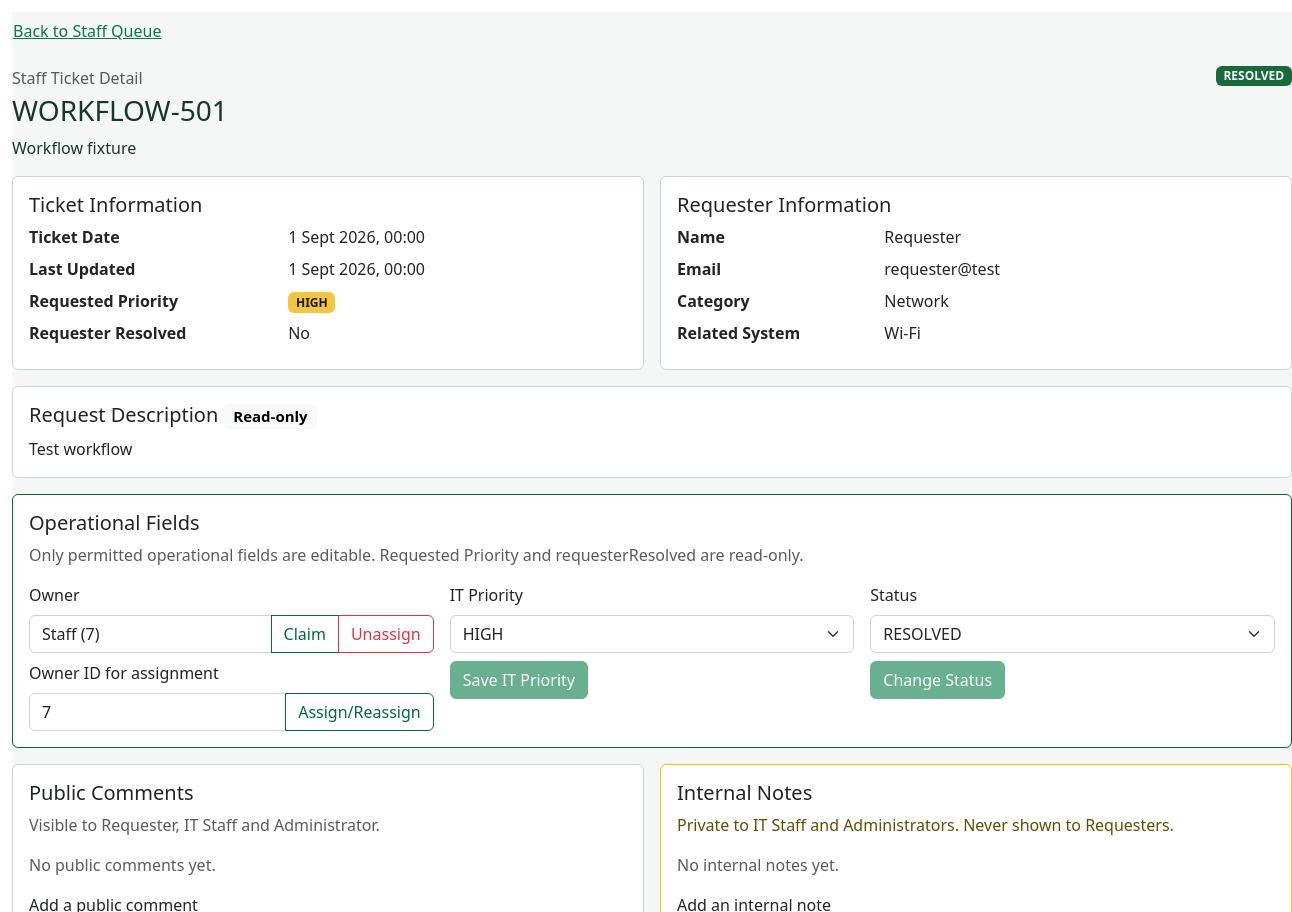
Scenario: UI-05 Ticket workflow › maps server validation to the reason field and keeps its contents
The image size is (1292, 912).
Expected: the heading "WORKFLOW-501" is shown, [12, 94, 228, 128]
Select "REOPENED" in the dropdown labelled "Status". click: (1073, 634)
box: [870, 615, 1275, 653]
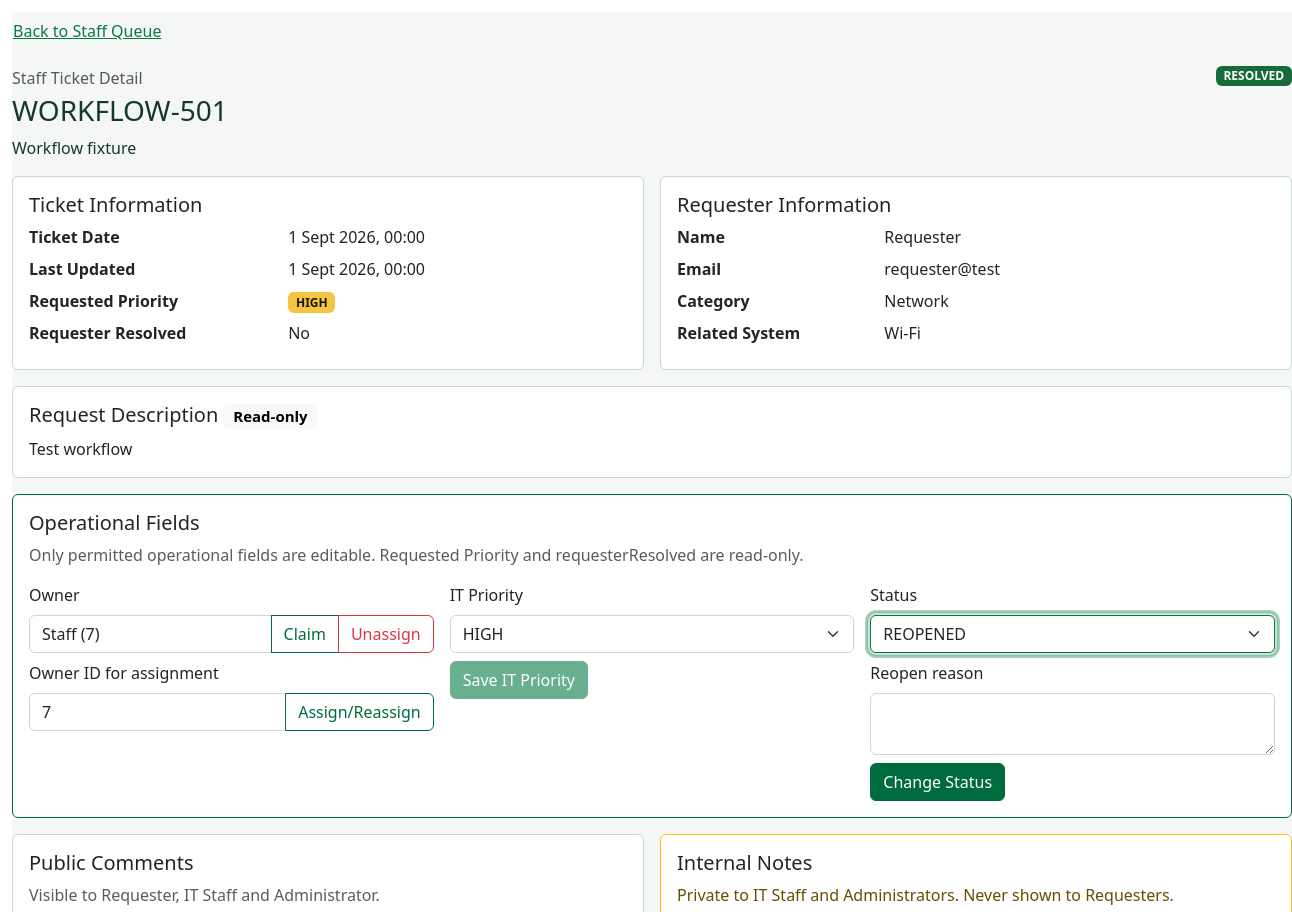
Type "Return reason" into the text box labelled "Reopen reason". click: (1073, 724)
box: [870, 693, 1275, 755]
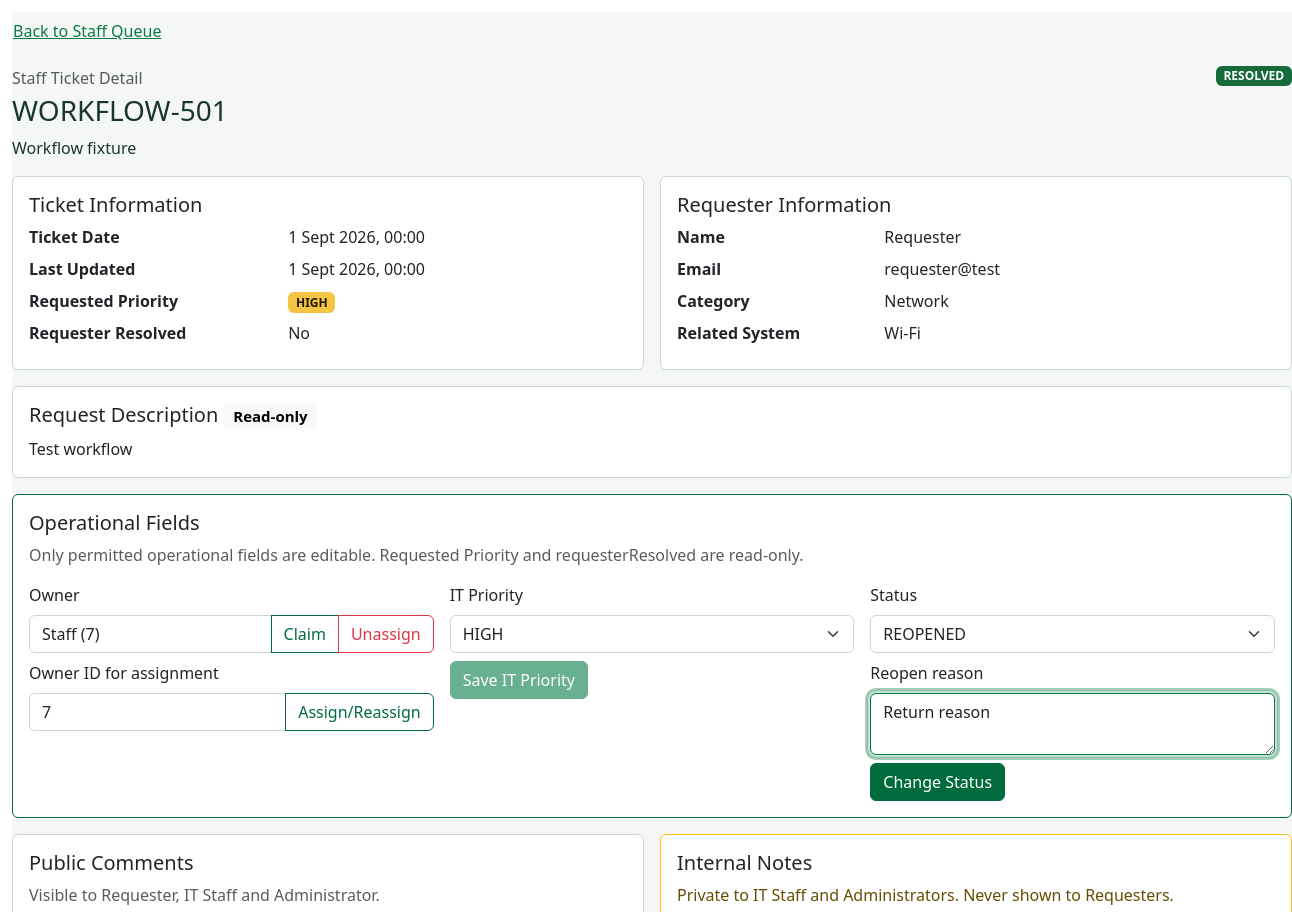
Click the button "Change Status". click: (938, 782)
box: [870, 763, 1005, 801]
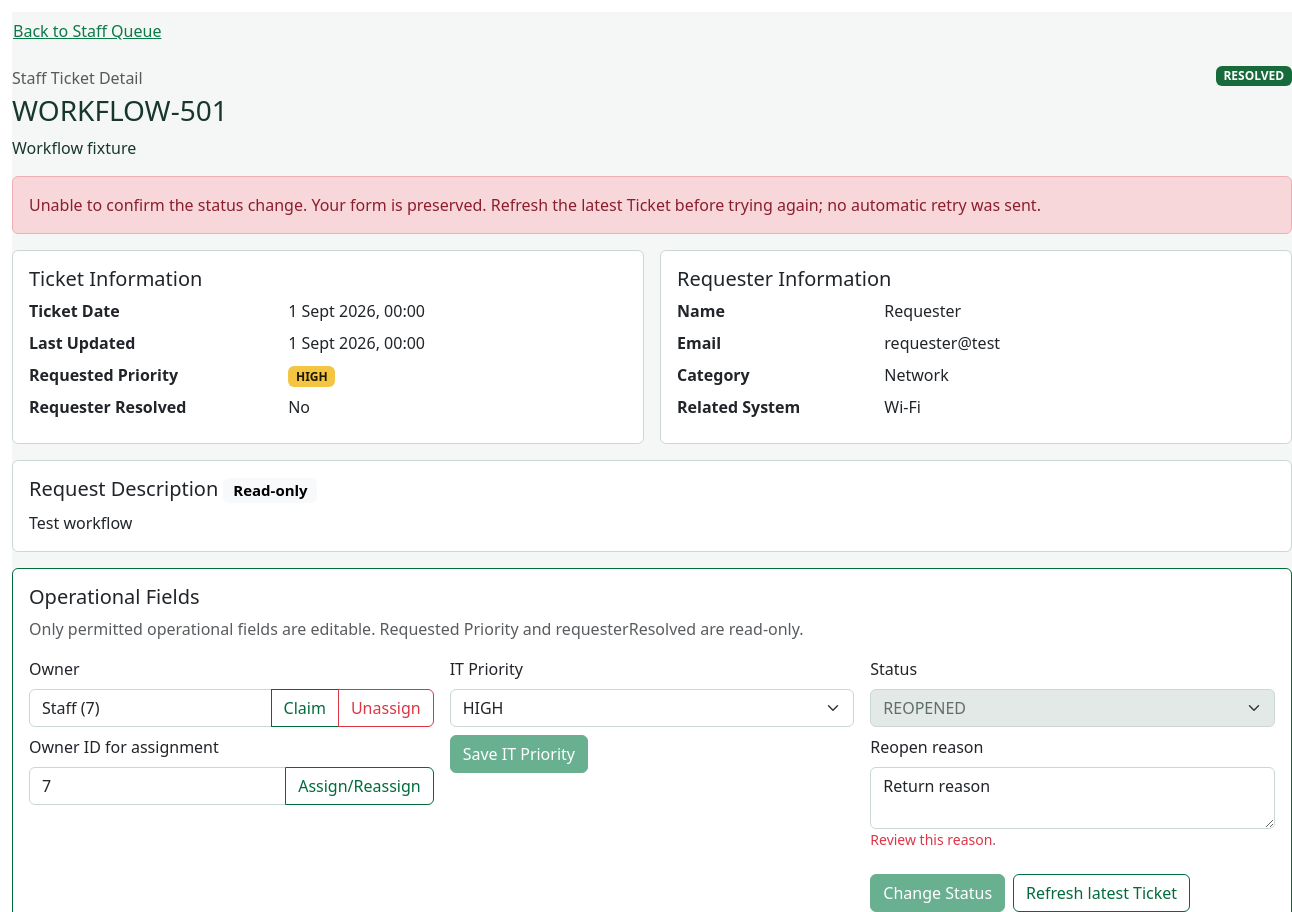
Now the text "Review this reason." is shown, box [870, 830, 996, 849]
